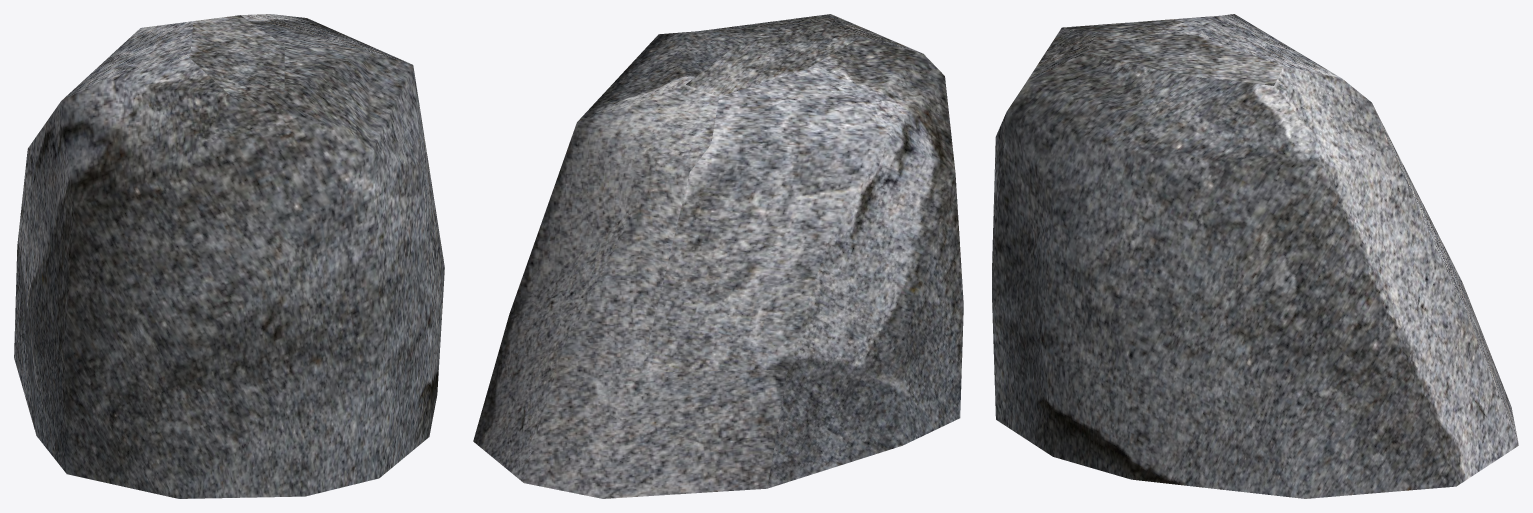
File: Grosse_Roche_02.fbx
3 views of the same model, side by side, from view 1: azimuth 30°, elevation 25°; view 2: azimuth 150°, elevation 25°; view 3: azimuth 270°, elevation 25° (orthographic). The views are drawn at different scales.
Parts seen in each view (by area): view 1: Grosse_Roche_High1; view 2: Grosse_Roche_High1; view 3: Grosse_Roche_High1.
Boxes of the visible parts, left/top/right/bottom form: Grosse_Roche_High1: left=14, top=14, right=444, bottom=498; Grosse_Roche_High1: left=473, top=14, right=963, bottom=498; Grosse_Roche_High1: left=992, top=14, right=1518, bottom=498.
Size of the model in its own units: 273 by 235 by 324.
1 material, 1 textured.
